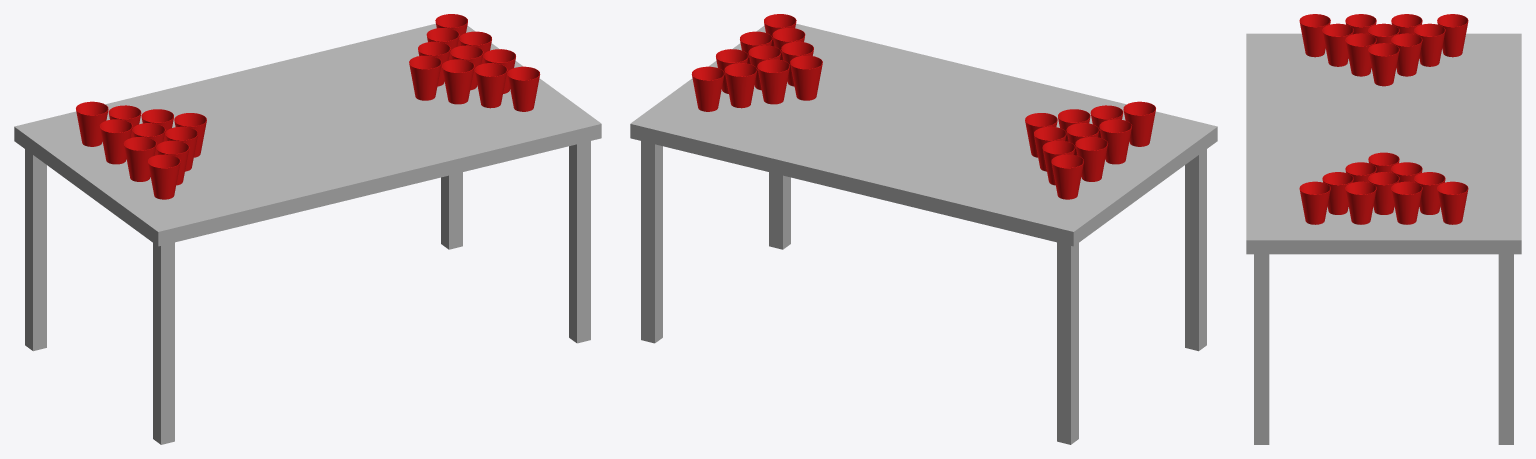
The model's file is beer_pong_table.fbx.
The picture shows the model from 3 angles, left to right: view 1: azimuth 30°, elevation 25°; view 2: azimuth 150°, elevation 25°; view 3: azimuth 270°, elevation 25°; orthographic projection. The views are drawn at different scales.
Visible parts, largest first — view 1: Rectangle001, leg (×4), main_cup021, main_cup004, main_cup017, main_cup026, main_cup024, main_cup012, main_cup016, main_cup008, main_cup003, main_cup002 (+4 smaller); view 2: Rectangle001, leg (×4), main_cup018, main_cup016, main_cup017, main_cup020, main_cup019, main_cup004, main_cup008, main_cup012, main_cup011, main_cup006 (+4 smaller); view 3: Rectangle001, leg (×2), main_cup020, main_cup026, main_cup023, main_cup025, main_cup001, main_cup002, main_cup006, main_cup003, main_cup011, main_cup004 (+10 smaller).
Boxes of the visible parts, x1,y1,x2,y2 form: Rectangle001: (14,23,601,246); leg (×4): (25,141,590,444); main_cup021: (442,59,474,104); main_cup004: (148,154,180,199); main_cup017: (409,55,441,100); main_cup026: (507,66,540,111); main_cup024: (474,63,507,108); main_cup012: (100,119,132,164); main_cup016: (76,101,108,146); main_cup008: (124,137,156,181); main_cup003: (156,140,189,185); main_cup002: (165,126,197,171); Rectangle001: (630,23,1217,246); leg (×4): (641,141,1206,444); main_cup018: (757,59,789,104); main_cup016: (1051,154,1083,199); main_cup017: (790,55,822,100); main_cup020: (691,66,724,111); main_cup019: (724,63,757,108); main_cup004: (1123,101,1155,146); main_cup008: (1099,119,1131,164); main_cup012: (1075,137,1107,181); main_cup011: (1042,140,1075,185); main_cup006: (1034,126,1066,171); Rectangle001: (1246,33,1521,254); leg (×2): (1254,254,1513,444); main_cup020: (1437,181,1468,224); main_cup026: (1299,181,1330,224); main_cup023: (1391,181,1422,224); main_cup025: (1345,181,1376,224); main_cup001: (1368,43,1399,86); main_cup002: (1345,33,1376,76); main_cup006: (1391,33,1422,76); main_cup003: (1322,23,1353,66); main_cup011: (1414,23,1445,66); main_cup004: (1299,14,1330,57).
Size of the model in its own units: 1600 by 900 by 867.
